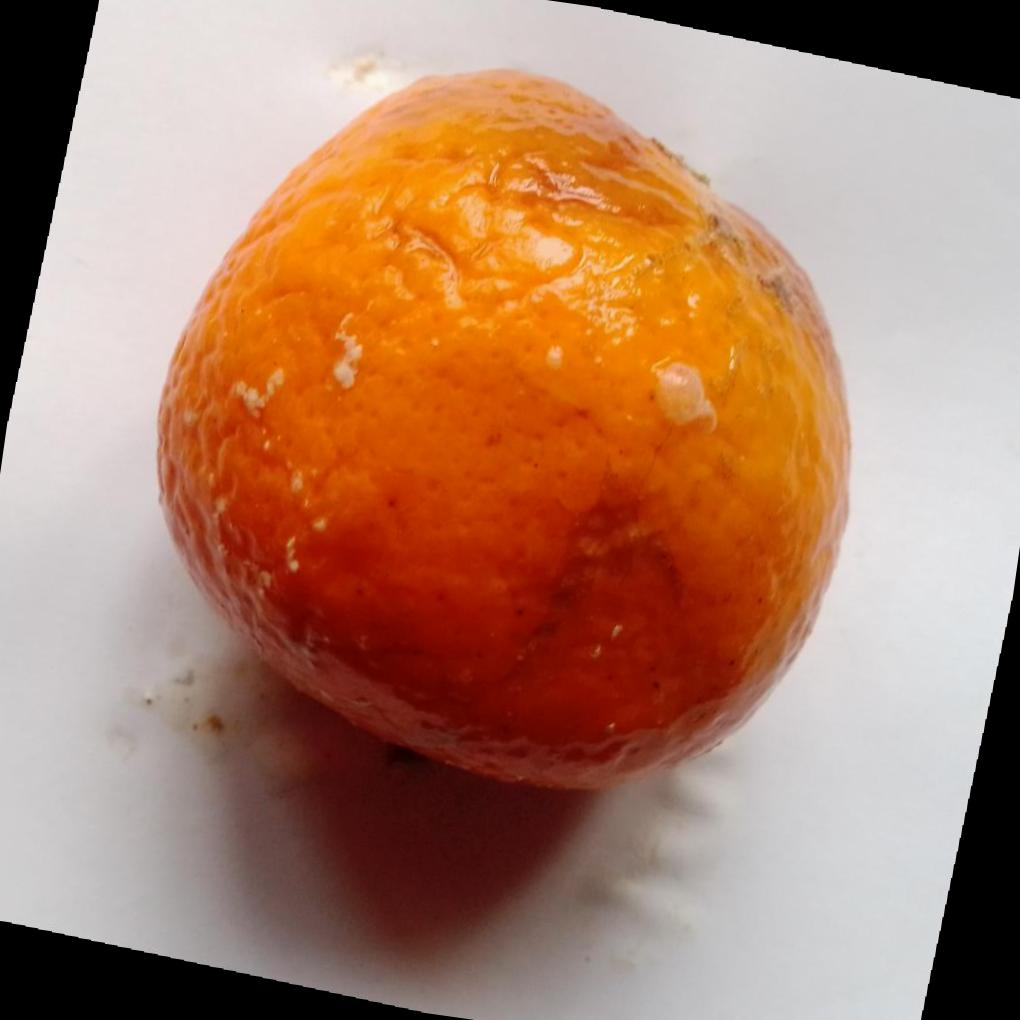FreshOrange: (155, 68, 851, 795)
